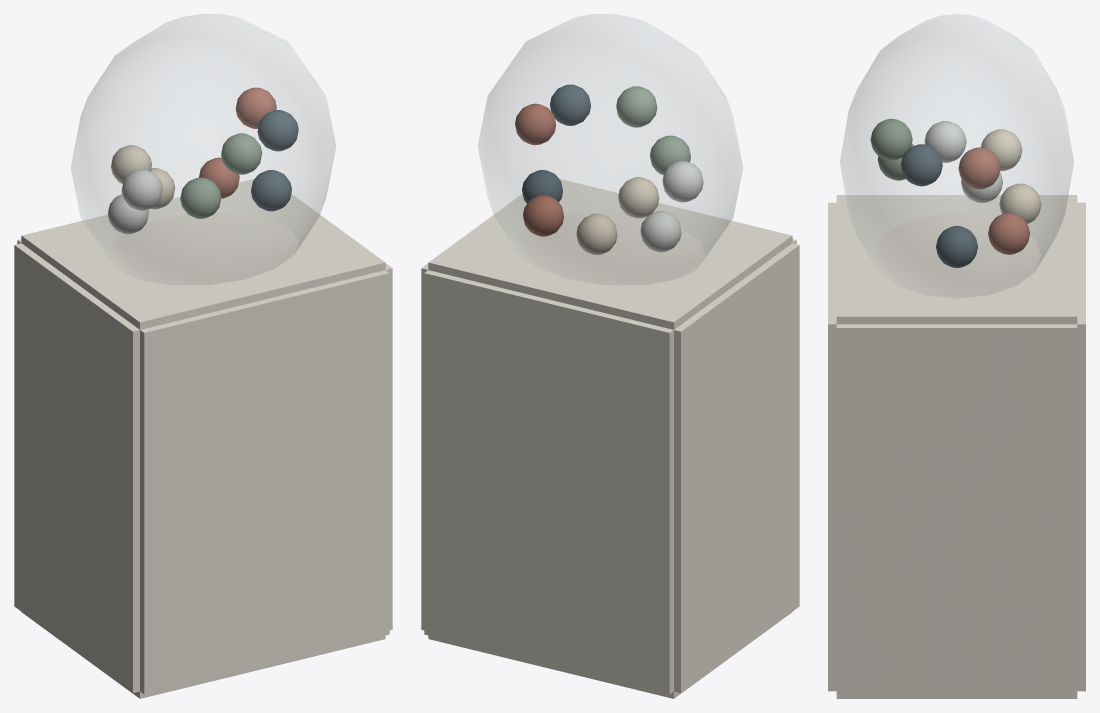
The model's file is fixture_capsule.glb.
The picture shows the model from 3 angles, left to right: view 1: azimuth 30°, elevation 25°; view 2: azimuth 150°, elevation 25°; view 3: azimuth 270°, elevation 25°; orthographic projection.
Parts seen in each view (by area): view 1: fixture_capsule_FY21_chalk_lacquer, fixture_capsule_Shop_display_glass, fixture_capsule_Woven_2, fixture_capsule_Woven_0, fixture_capsule_Woven_4, fixture_capsule_Woven_3, fixture_capsule_Woven_1; view 2: fixture_capsule_FY21_chalk_lacquer, fixture_capsule_Shop_display_glass, fixture_capsule_Woven_3, fixture_capsule_Woven_1, fixture_capsule_Woven_4, fixture_capsule_Woven_2, fixture_capsule_Woven_0; view 3: fixture_capsule_FY21_chalk_lacquer, fixture_capsule_Shop_display_glass, fixture_capsule_Woven_3, fixture_capsule_Woven_0, fixture_capsule_Woven_1, fixture_capsule_Woven_4, fixture_capsule_Woven_2.
Part boxes in pixels (x1,y1,x2,y2): fixture_capsule_FY21_chalk_lacquer: (14,178,392,698); fixture_capsule_Shop_display_glass: (71,14,335,284); fixture_capsule_Woven_2: (180,133,261,218); fixture_capsule_Woven_0: (251,110,298,211); fixture_capsule_Woven_4: (107,169,162,234); fixture_capsule_Woven_3: (199,87,276,198); fixture_capsule_Woven_1: (111,145,175,209); fixture_capsule_FY21_chalk_lacquer: (421,178,799,698); fixture_capsule_Shop_display_glass: (478,14,742,284); fixture_capsule_Woven_3: (515,103,563,236); fixture_capsule_Woven_1: (576,177,659,254); fixture_capsule_Woven_4: (640,161,703,252); fixture_capsule_Woven_2: (616,86,690,175); fixture_capsule_Woven_0: (522,84,590,203); fixture_capsule_FY21_chalk_lacquer: (828,195,1085,698); fixture_capsule_Shop_display_glass: (840,14,1073,297); fixture_capsule_Woven_3: (958,147,1029,254); fixture_capsule_Woven_0: (900,144,977,267); fixture_capsule_Woven_1: (981,129,1041,223); fixture_capsule_Woven_4: (924,121,1002,203); fixture_capsule_Woven_2: (870,118,913,180).
Size of the model in its own units: 0.65 by 1.44 by 0.55.
